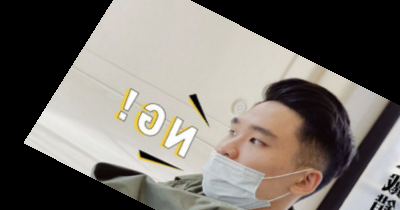mask_weared_incorrect: (201, 60, 363, 210)
